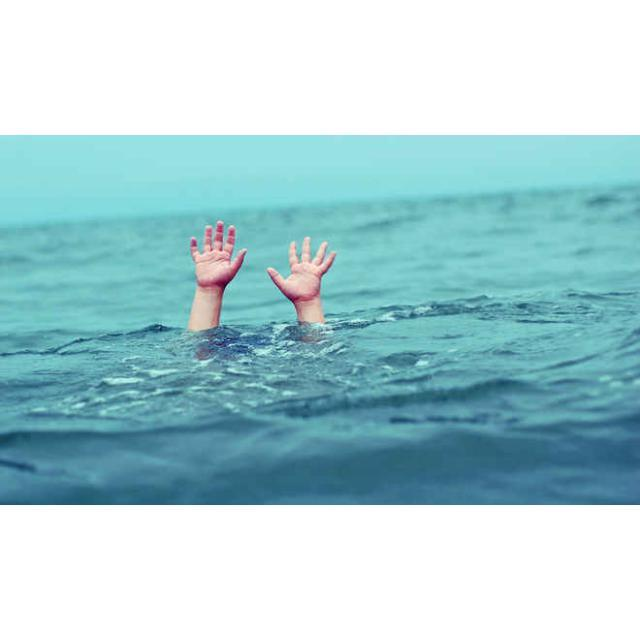human: (186, 218, 341, 330)
